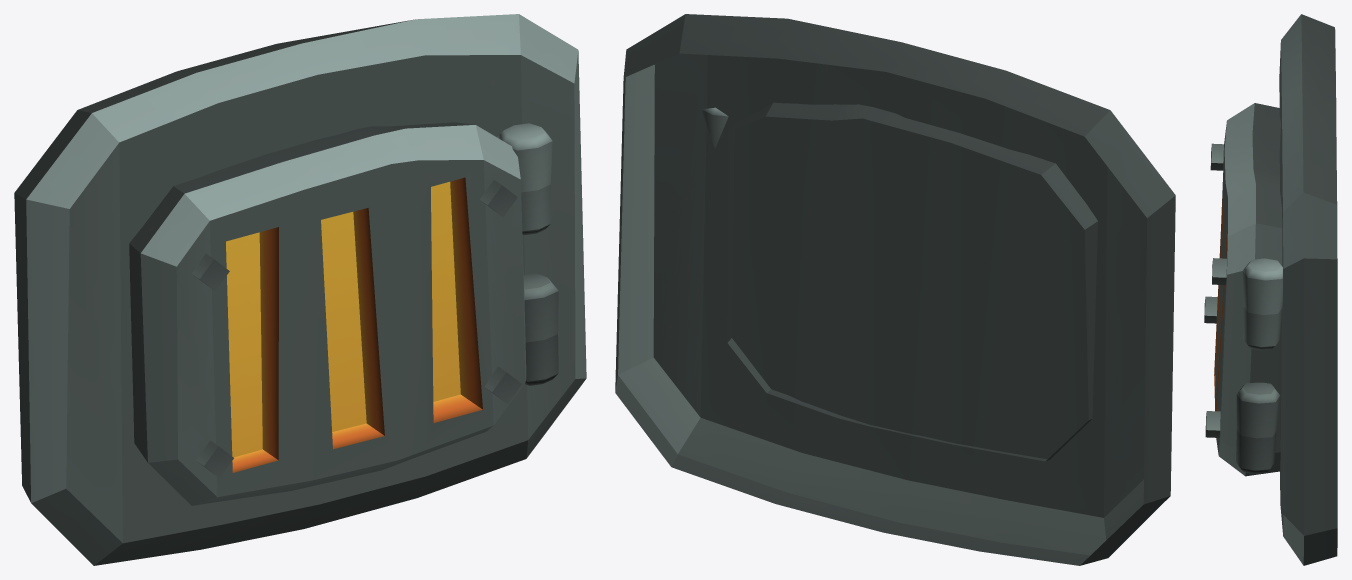
File: orc_oven_door_small.fbx
3 views of the same model, side by side, from view 1: azimuth 30°, elevation 25°; view 2: azimuth 150°, elevation 25°; view 3: azimuth 270°, elevation 25° (orthographic). The views are drawn at different scales.
Visible parts, largest first — view 1: orc_oven_door_small; view 2: orc_oven_door_small; view 3: orc_oven_door_small.
Part boxes in pixels (bbox=[...]): orc_oven_door_small: bbox=[14, 14, 586, 565]; orc_oven_door_small: bbox=[615, 14, 1175, 565]; orc_oven_door_small: bbox=[1204, 14, 1337, 565].
Size of the model in its own units: 194 by 160 by 48.06.
